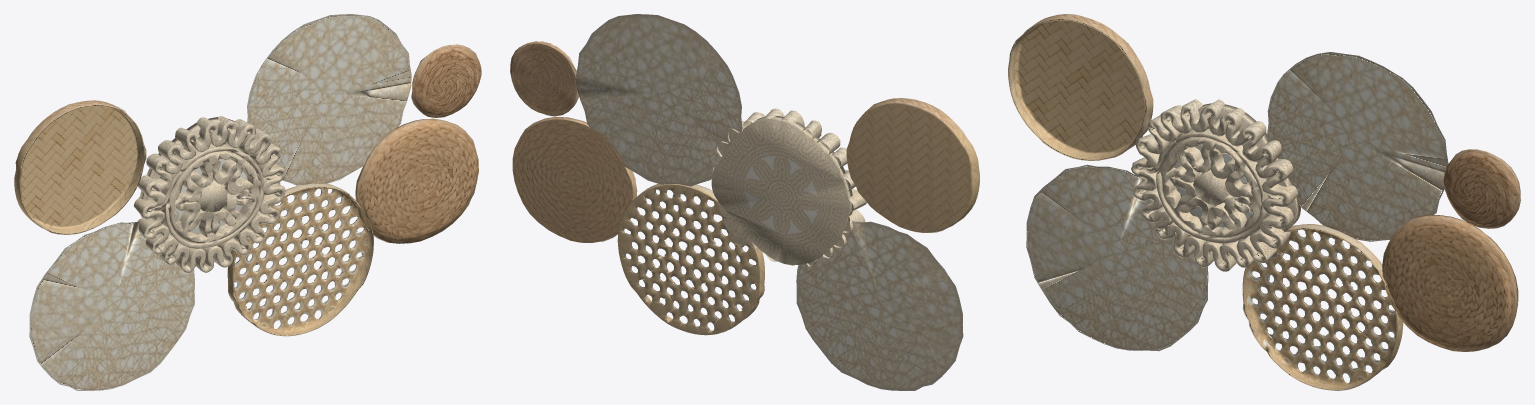
The model's file is indie-decor.glb.
The picture shows the model from 3 angles, left to right: view 1: azimuth 30°, elevation 25°; view 2: azimuth 150°, elevation 25°; view 3: azimuth 330°, elevation 25°; orthographic projection. The views are drawn at different scales.
Size of the model in its own units: 0.9497 by 0.6235 by 0.0439.
1 material, 1 textured.
